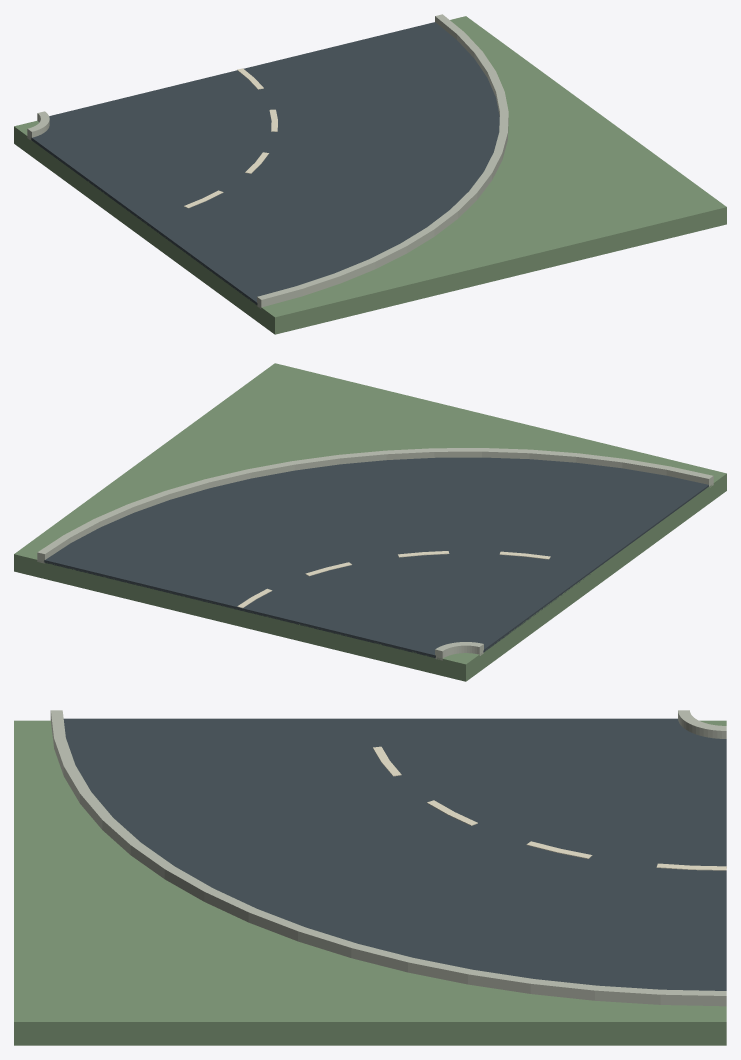
File: road-left.glb
The picture shows the model from 3 angles, top to bottom: view 1: azimuth 30°, elevation 25°; view 2: azimuth 150°, elevation 25°; view 3: azimuth 270°, elevation 25°; orthographic projection. The views are drawn at different scales.
Visible parts, largest first — view 1: RoadLeft_asphalt, RoadLeft_grass, RoadLeft_curb, RoadLeft_line; view 2: RoadLeft_asphalt, RoadLeft_grass, RoadLeft_curb, RoadLeft_line; view 3: RoadLeft_asphalt, RoadLeft_grass, RoadLeft_curb, RoadLeft_line.
Part boxes in pixels (x1,y1,x2,y2): RoadLeft_asphalt: [31, 22, 499, 305]; RoadLeft_grass: [14, 16, 726, 334]; RoadLeft_curb: [27, 14, 508, 308]; RoadLeft_line: [183, 68, 277, 208]; RoadLeft_asphalt: [44, 457, 708, 658]; RoadLeft_grass: [14, 363, 726, 681]; RoadLeft_curb: [37, 448, 713, 660]; RoadLeft_line: [237, 551, 550, 608]; RoadLeft_asphalt: [63, 718, 726, 990]; RoadLeft_grass: [14, 720, 726, 1045]; RoadLeft_curb: [50, 710, 726, 1006]; RoadLeft_line: [373, 746, 726, 870].
Size of the model in its own units: 6 by 0.315 by 6.
